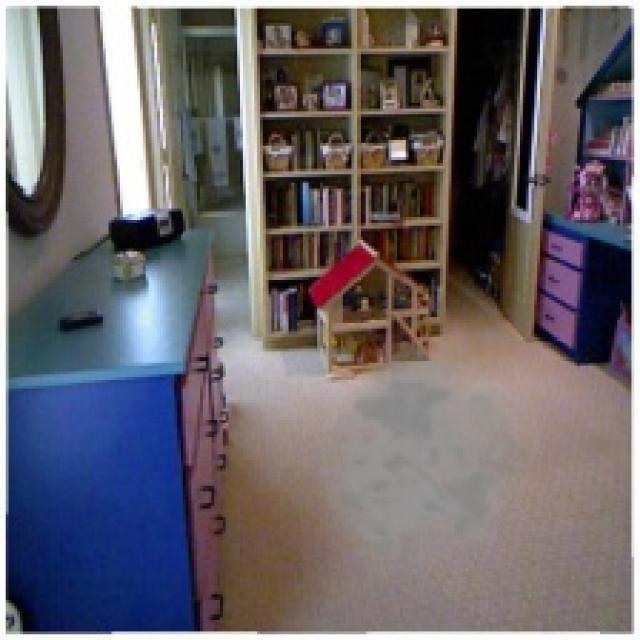Smoke: (311, 328, 546, 580)
